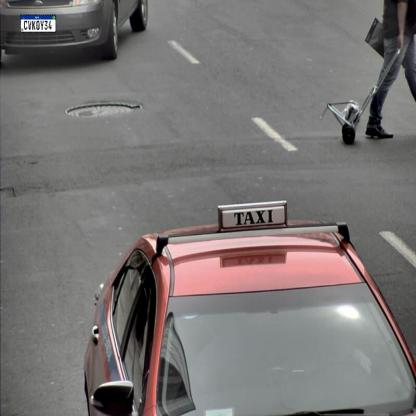PlacaM: (20, 14, 56, 32)
